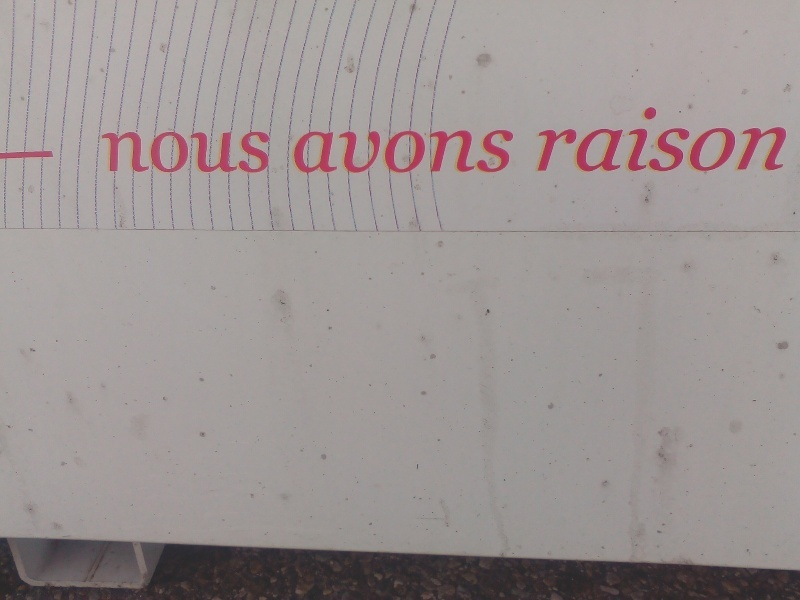text: (545, 106, 560, 174), (561, 106, 576, 174), (577, 106, 592, 174), (593, 106, 608, 174), (609, 106, 624, 174), (625, 106, 640, 174), (641, 106, 656, 174), (657, 106, 672, 174), (673, 106, 688, 174), (689, 106, 704, 174), (705, 106, 720, 174), (721, 106, 736, 174), (737, 106, 752, 174), (753, 106, 768, 174), (769, 106, 784, 174), (305, 128, 320, 176), (321, 128, 336, 176), (337, 128, 352, 176), (353, 128, 368, 176), (369, 128, 384, 176), (385, 128, 400, 176), (401, 128, 416, 176), (417, 128, 432, 176), (433, 128, 448, 176), (449, 128, 464, 176), (465, 128, 480, 176), (481, 128, 496, 176), (497, 128, 512, 176), (113, 130, 128, 176), (129, 130, 144, 176), (145, 130, 160, 176), (161, 130, 176, 176), (177, 130, 192, 176), (193, 130, 208, 176), (209, 130, 224, 176), (225, 130, 240, 176), (241, 130, 256, 176), (257, 130, 272, 176), (293, 128, 304, 176), (101, 130, 112, 176), (785, 106, 790, 174), (513, 128, 515, 176), (543, 106, 544, 174)
